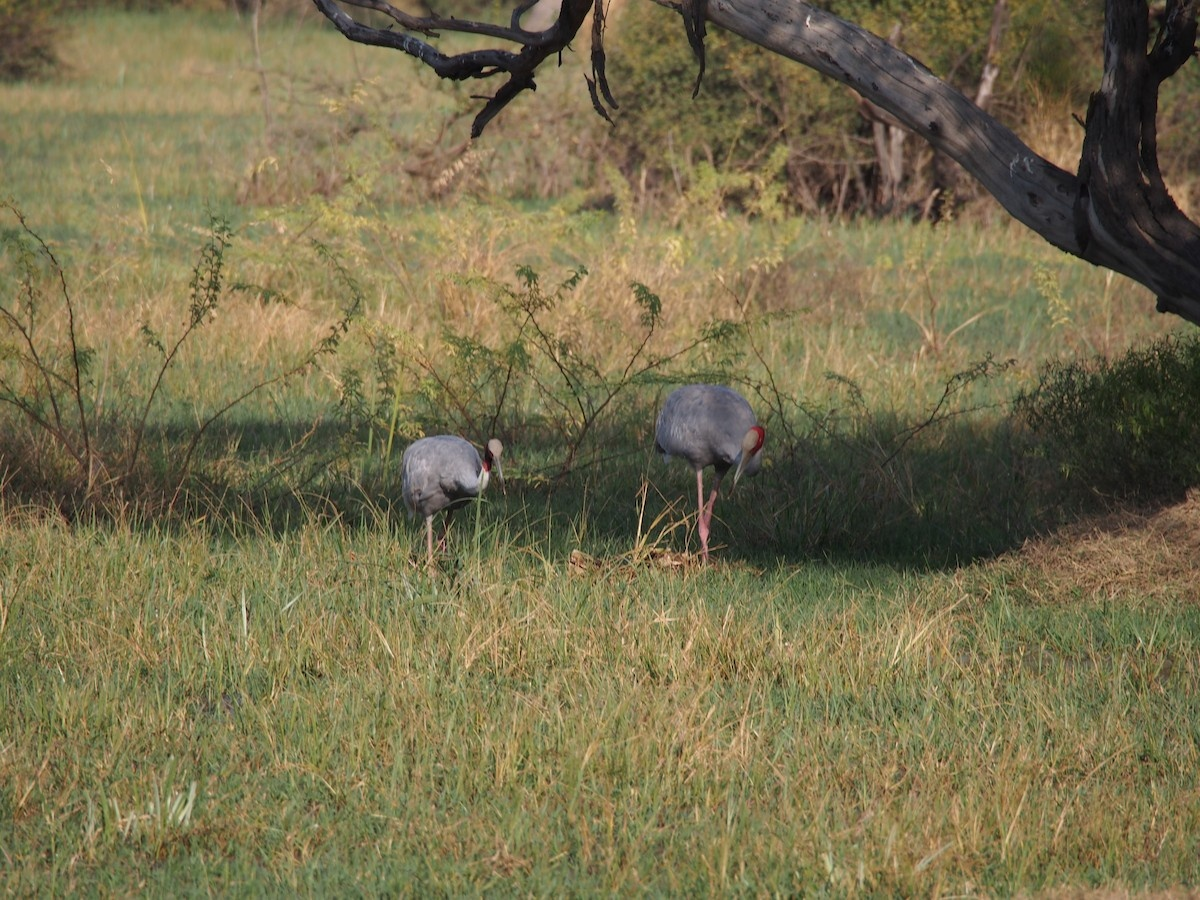crane: (656, 378, 776, 517), (398, 428, 515, 516)
